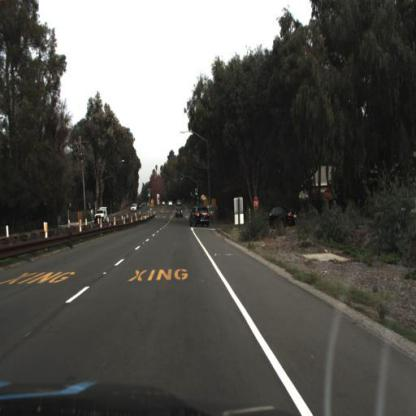car: (262, 201, 302, 233), (188, 205, 213, 231), (91, 205, 112, 225), (175, 208, 187, 222), (175, 207, 185, 223)
trafficLight-Green: (194, 186, 200, 204), (146, 189, 153, 201), (147, 189, 152, 205), (181, 175, 186, 186)
